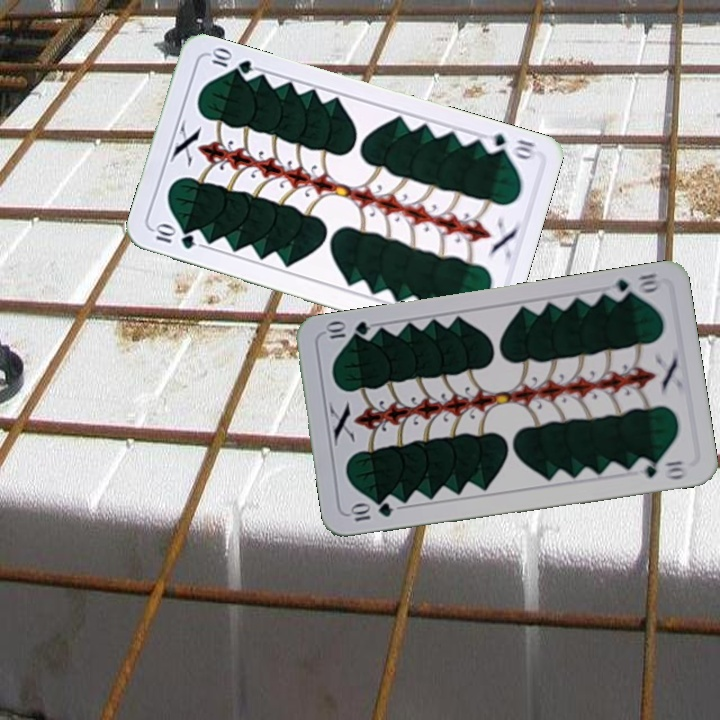G10: (478, 129, 538, 163), (606, 269, 663, 303), (150, 220, 199, 252), (346, 499, 395, 524)
